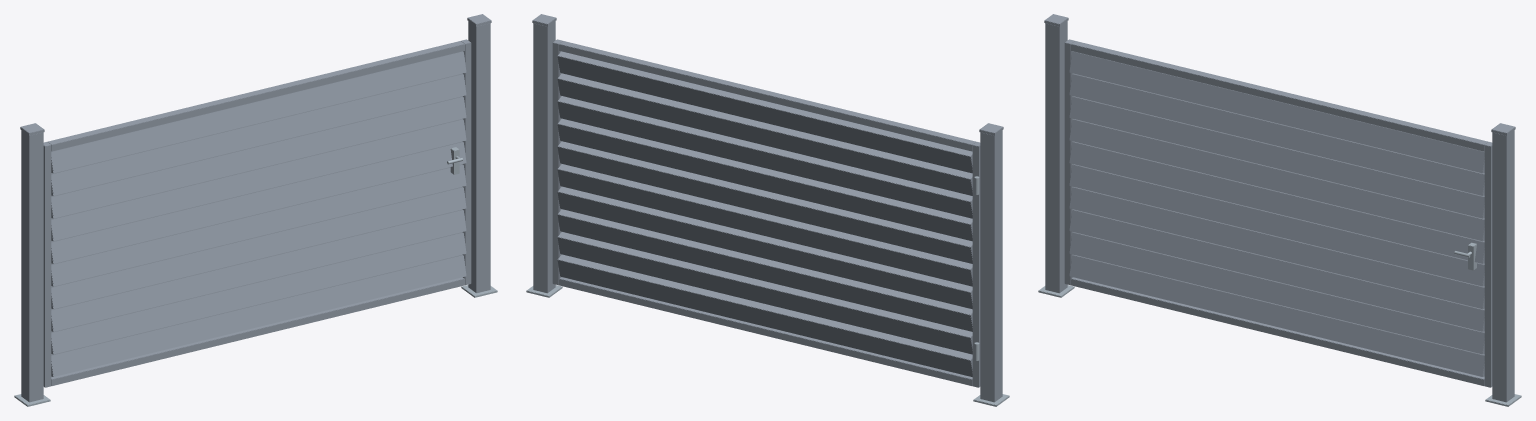
Rendered from 08-jednokrilna.glb.
3 views of the same model, side by side, from view 1: azimuth 30°, elevation 25°; view 2: azimuth 150°, elevation 25°; view 3: azimuth 330°, elevation 25° (orthographic).
Parts seen in each view (by area): view 1: Ispuna_horizontalna.096, Ispuna_horizontalna.102, Ispuna_horizontalna.097, Ispuna_horizontalna.101, Ispuna_horizontalna.103, Ispuna_horizontalna.095, Ispuna_horizontalna.098, Ispuna_horizontalna.099, Ispuna_horizontalna.100, Ispuna_horizontalna.104, Stub_levi.029, Stub_desni.029 (+4 smaller); view 2: Ispuna_horizontalna.100, Ispuna_horizontalna.098, Ispuna_horizontalna.101, Ispuna_horizontalna.095, Ispuna_horizontalna.099, Ispuna_horizontalna.103, Ispuna_horizontalna.096, Ispuna_horizontalna.097, Ispuna_horizontalna.102, Ispuna_horizontalna.104, Stub_levi.029, Stub_desni.029 (+4 smaller); view 3: Ispuna_horizontalna.096, Ispuna_horizontalna.102, Ispuna_horizontalna.097, Ispuna_horizontalna.101, Ispuna_horizontalna.103, Ispuna_horizontalna.095, Ispuna_horizontalna.098, Ispuna_horizontalna.099, Ispuna_horizontalna.100, Ispuna_horizontalna.104, Stub_desni.029, Stub_levi.029 (+4 smaller).
Part boxes in pixels (x1,y1,x2,y2): Ispuna_horizontalna.096: (51,232,466,354); Ispuna_horizontalna.102: (51,96,466,218); Ispuna_horizontalna.097: (51,209,466,331); Ispuna_horizontalna.101: (51,119,466,241); Ispuna_horizontalna.103: (51,73,466,195); Ispuna_horizontalna.095: (51,255,466,376); Ispuna_horizontalna.098: (51,187,466,308); Ispuna_horizontalna.099: (51,164,466,286); Ispuna_horizontalna.100: (51,141,466,263); Ispuna_horizontalna.104: (51,51,466,173); Stub_levi.029: (21,130,43,402); Stub_desni.029: (468,21,490,293); Ispuna_horizontalna.100: (557,141,972,263); Ispuna_horizontalna.098: (557,186,972,309); Ispuna_horizontalna.101: (557,118,972,241); Ispuna_horizontalna.095: (557,254,972,376); Ispuna_horizontalna.099: (557,164,972,286); Ispuna_horizontalna.103: (557,73,972,195); Ispuna_horizontalna.096: (557,232,972,354); Ispuna_horizontalna.097: (557,209,972,331); Ispuna_horizontalna.102: (557,96,972,218); Ispuna_horizontalna.104: (557,51,972,173); Stub_levi.029: (980,130,1002,402); Stub_desni.029: (533,21,555,293); Ispuna_horizontalna.096: (1069,232,1484,354); Ispuna_horizontalna.102: (1069,96,1484,218); Ispuna_horizontalna.097: (1069,209,1484,331); Ispuna_horizontalna.101: (1069,119,1484,241); Ispuna_horizontalna.103: (1069,73,1484,195); Ispuna_horizontalna.095: (1069,255,1484,376); Ispuna_horizontalna.098: (1069,187,1484,308); Ispuna_horizontalna.099: (1069,164,1484,286); Ispuna_horizontalna.100: (1069,141,1484,263); Ispuna_horizontalna.104: (1069,51,1484,173); Stub_desni.029: (1492,130,1514,402); Stub_levi.029: (1045,21,1067,293).
Bounding box in the file's own units: 3.26 × 1.8 × 0.19.
